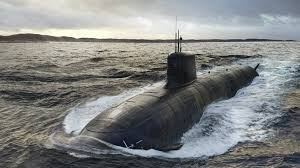Submarine: (81, 52, 256, 155)
